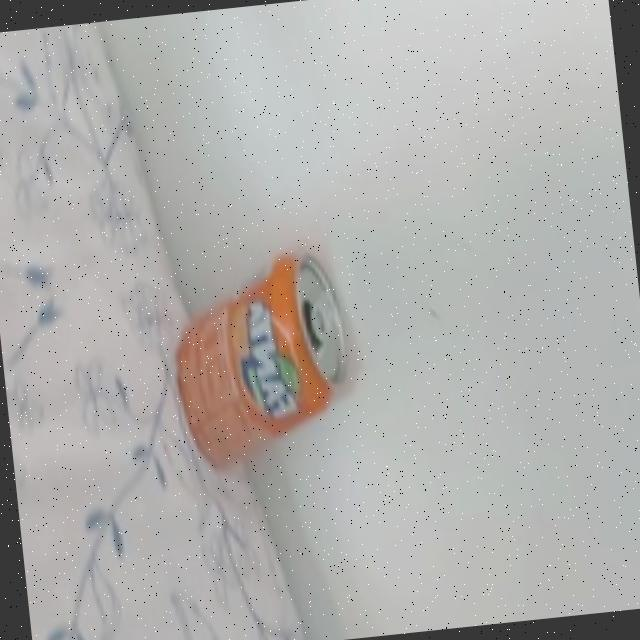Metal: (159, 239, 368, 476)
